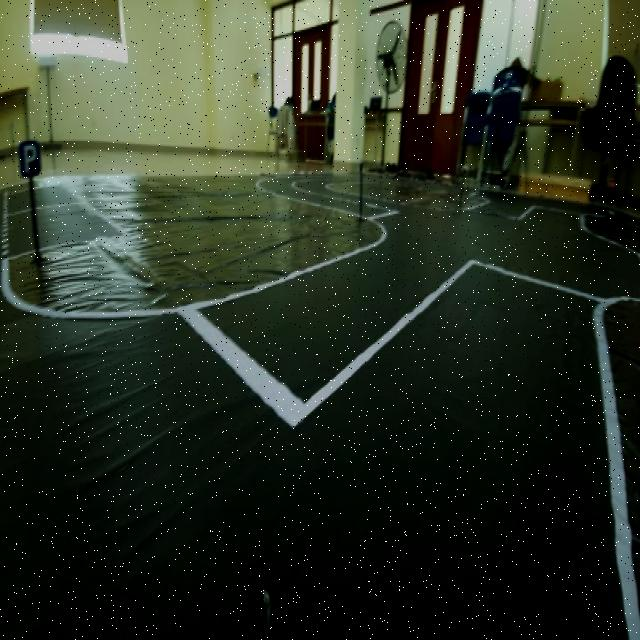parking: (12, 132, 49, 182)
